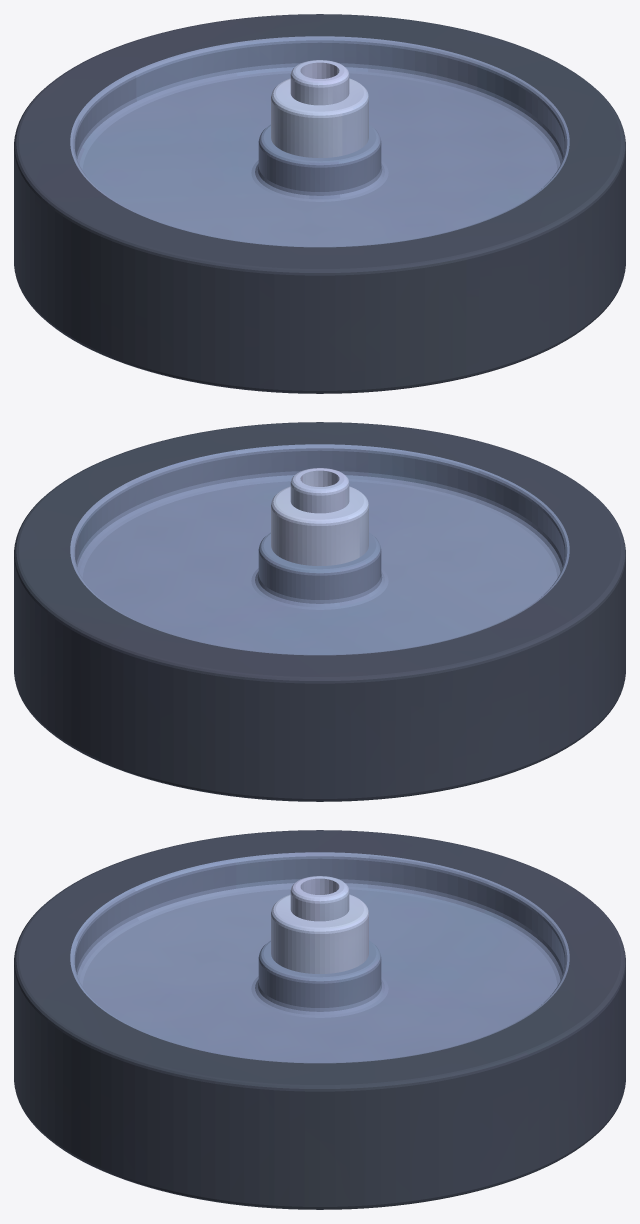
File: fixed_wheel.dae
3 renders of one model, top to bottom at view 1: azimuth 30°, elevation 25°; view 2: azimuth 150°, elevation 25°; view 3: azimuth 270°, elevation 25°, orthographic.
Visible parts, largest first — view 1: node_0; view 2: node_0; view 3: node_0.
Part boxes in pixels (x1=…): node_0: x1=14, y1=14, x2=625, y2=393; node_0: x1=14, y1=422, x2=625, y2=801; node_0: x1=14, y1=830, x2=625, y2=1209.
Size of the model in its own units: 125 by 125 by 47.
Materials: 1 (1 with a texture image).
